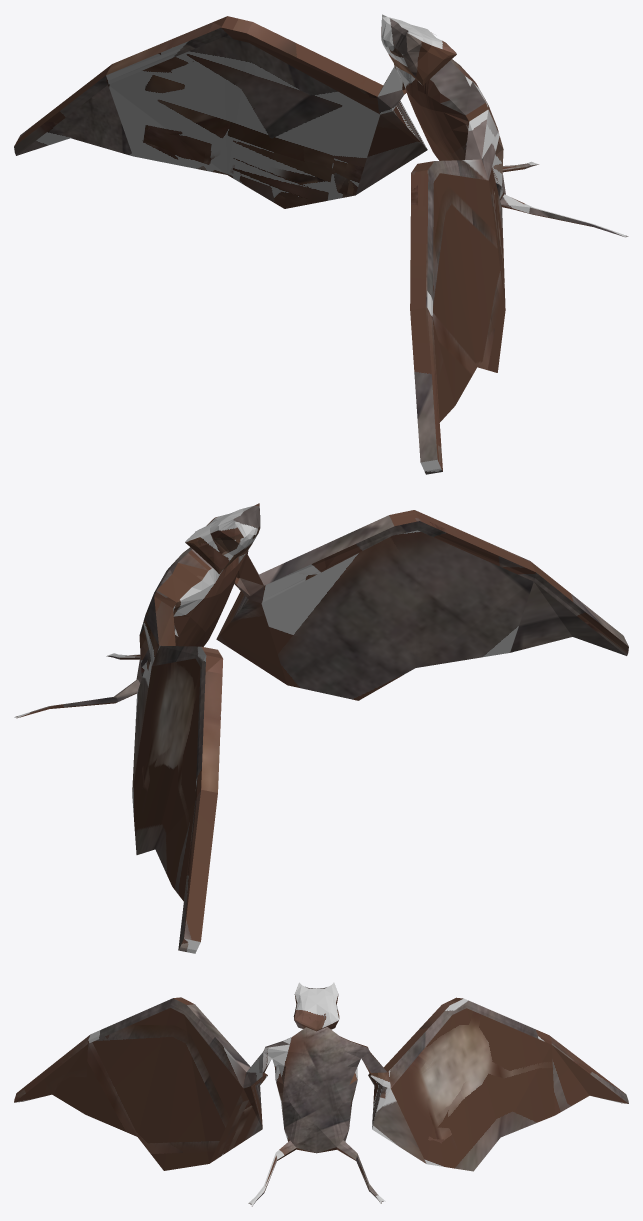
Rendered from Enemigo111.obj.
The picture shows the model from 3 angles, top to bottom: view 1: azimuth 30°, elevation 25°; view 2: azimuth 150°, elevation 25°; view 3: azimuth 270°, elevation 25°; orthographic projection. The views are drawn at different scales.
Parts seen in each view (by area): view 1: Plano; view 2: Plano; view 3: Plano.
Part boxes in pixels (left/top/right/bottom): Plano: left=14, top=14, right=628, bottom=474; Plano: left=14, top=503, right=628, bottom=953; Plano: left=14, top=982, right=628, bottom=1206.
Bounding box in the file's own units: 0.9351 × 0.6489 × 1.9.
1 material, 1 textured.
